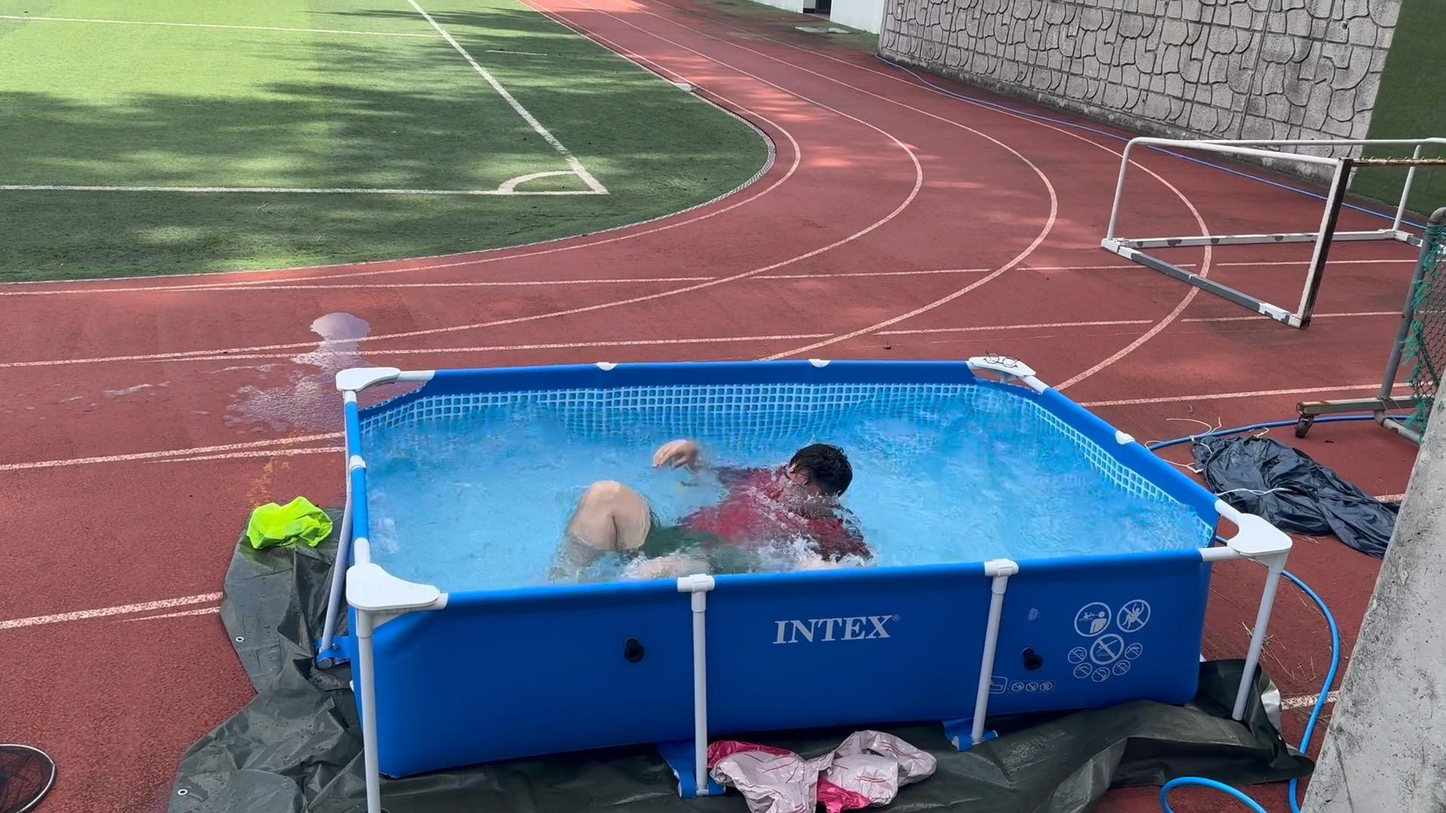Drowning: (532, 407, 912, 581)
